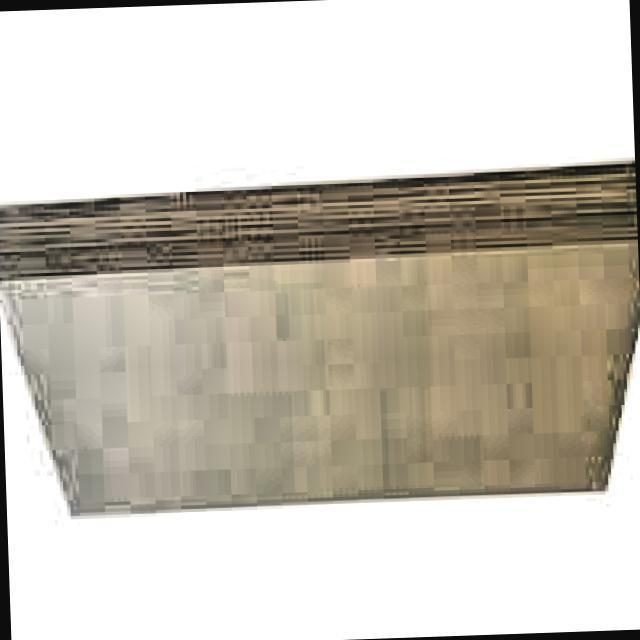cardboard: (0, 160, 640, 524)
